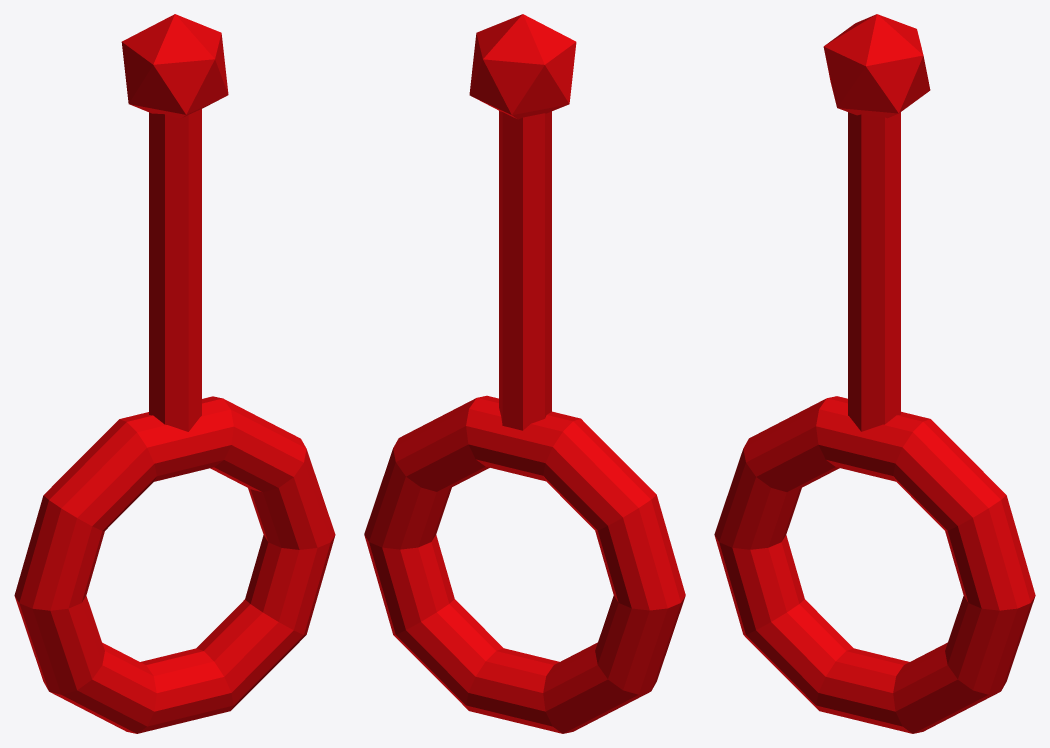
File: Work_Shop_Lever red 1.fbx
The picture shows the model from 3 angles, left to right: view 1: azimuth 30°, elevation 25°; view 2: azimuth 150°, elevation 25°; view 3: azimuth 330°, elevation 25°; orthographic projection.
Parts seen in each view (by area): view 1: Torus.001; view 2: Torus.001; view 3: Torus.001.
Part boxes in pixels (x1,y1,x2,y2): Torus.001: (14, 14, 335, 733); Torus.001: (364, 14, 685, 733); Torus.001: (714, 14, 1035, 733).
Bounding box in the file's own units: 0.7993 × 1.73 × 0.2271.
